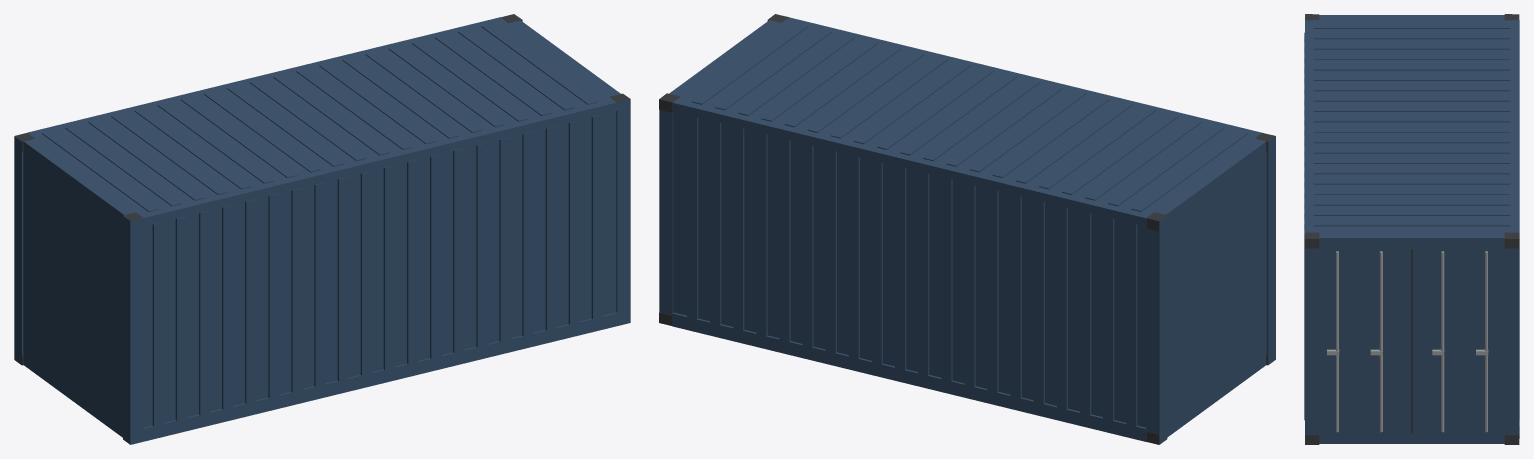
File: prop_container_20_blue.glb
3 renders of one model, left to right at view 1: azimuth 30°, elevation 25°; view 2: azimuth 150°, elevation 25°; view 3: azimuth 270°, elevation 25°, orthographic. The views are drawn at different scales.
Visible parts, largest first — view 1: Container; view 2: Container; view 3: Container.
Boxes of the visible parts, left/top/right/bottom form: Container: left=14, top=14, right=630, bottom=444; Container: left=659, top=14, right=1275, bottom=444; Container: left=1304, top=14, right=1519, bottom=444.
Size of the model in its own units: 6.11 by 2.6 by 2.46.
